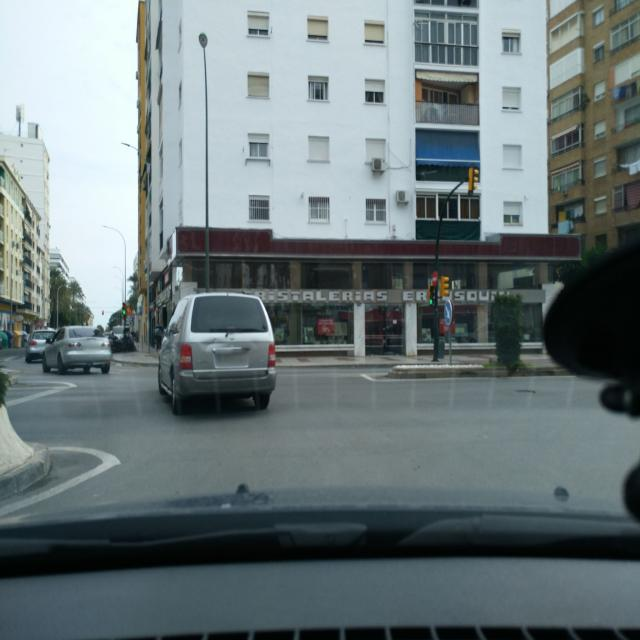car: (156, 290, 277, 416), (41, 325, 112, 375), (25, 328, 56, 364), (110, 326, 134, 354), (0, 330, 11, 350)
